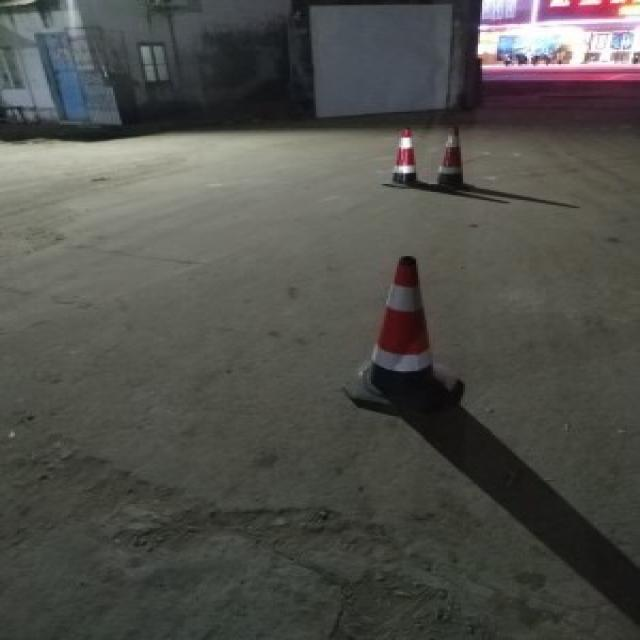reflective_cone: (337, 254, 461, 412), (424, 123, 472, 189), (382, 125, 427, 187)
